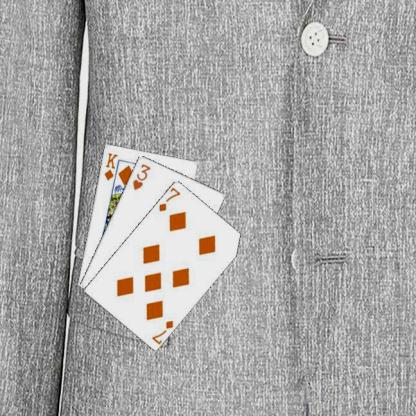3H: (130, 160, 152, 192)
7D: (149, 317, 175, 345), (156, 185, 182, 212)
KD: (101, 150, 119, 182)
